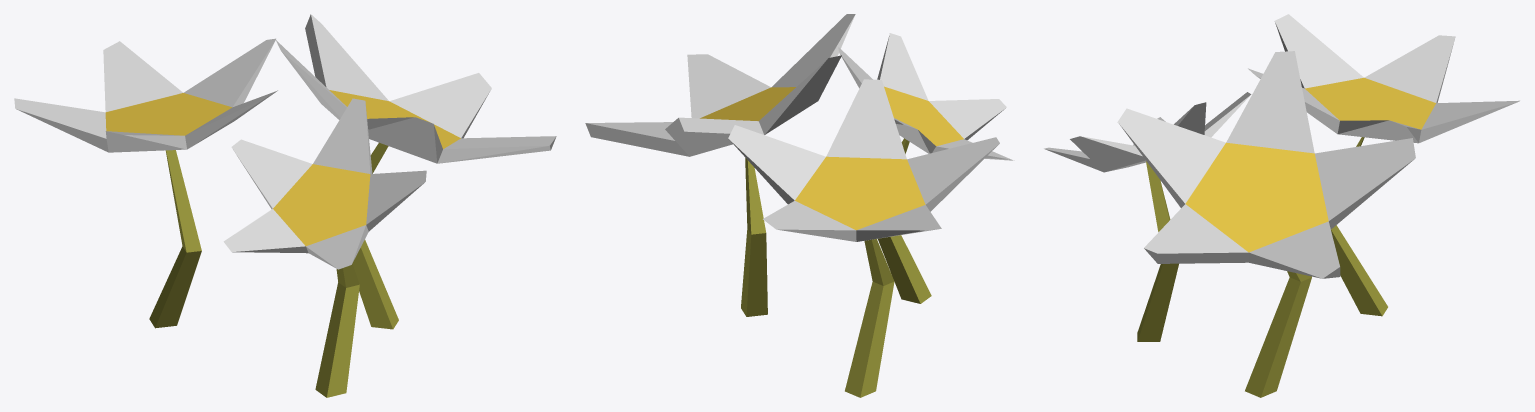
File: fantasy_flower_1.fbx
3 renders of one model, left to right at view 1: azimuth 30°, elevation 25°; view 2: azimuth 150°, elevation 25°; view 3: azimuth 270°, elevation 25°, orthographic. The views are drawn at different scales.
Visible parts, largest first — view 1: Cylinder.010; view 2: Cylinder.010; view 3: Cylinder.010.
Boxes of the visible parts, left/top/right/bottom form: Cylinder.010: left=14, top=14, right=556, bottom=397; Cylinder.010: left=585, top=14, right=1014, bottom=397; Cylinder.010: left=1044, top=14, right=1519, bottom=397.
Bounding box in the file's own units: 42.61 × 28.64 × 42.
